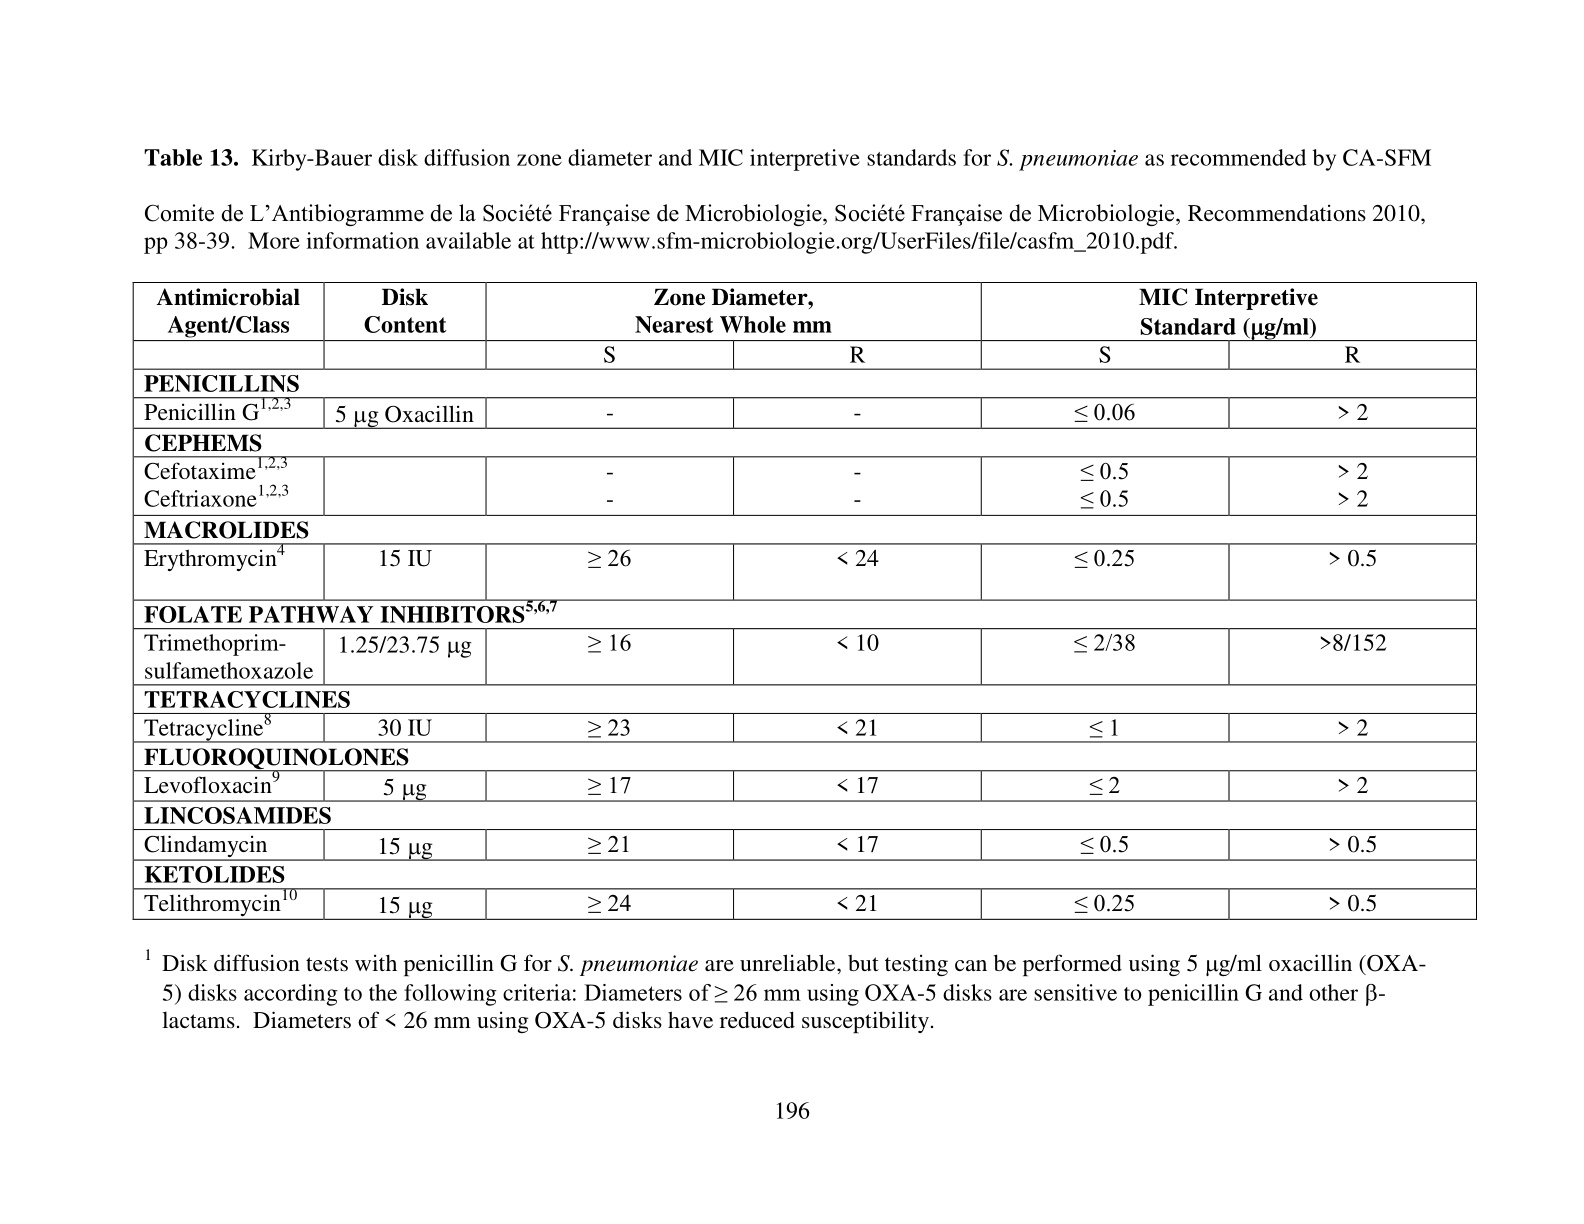merged_cells: (132, 282, 1477, 921)
